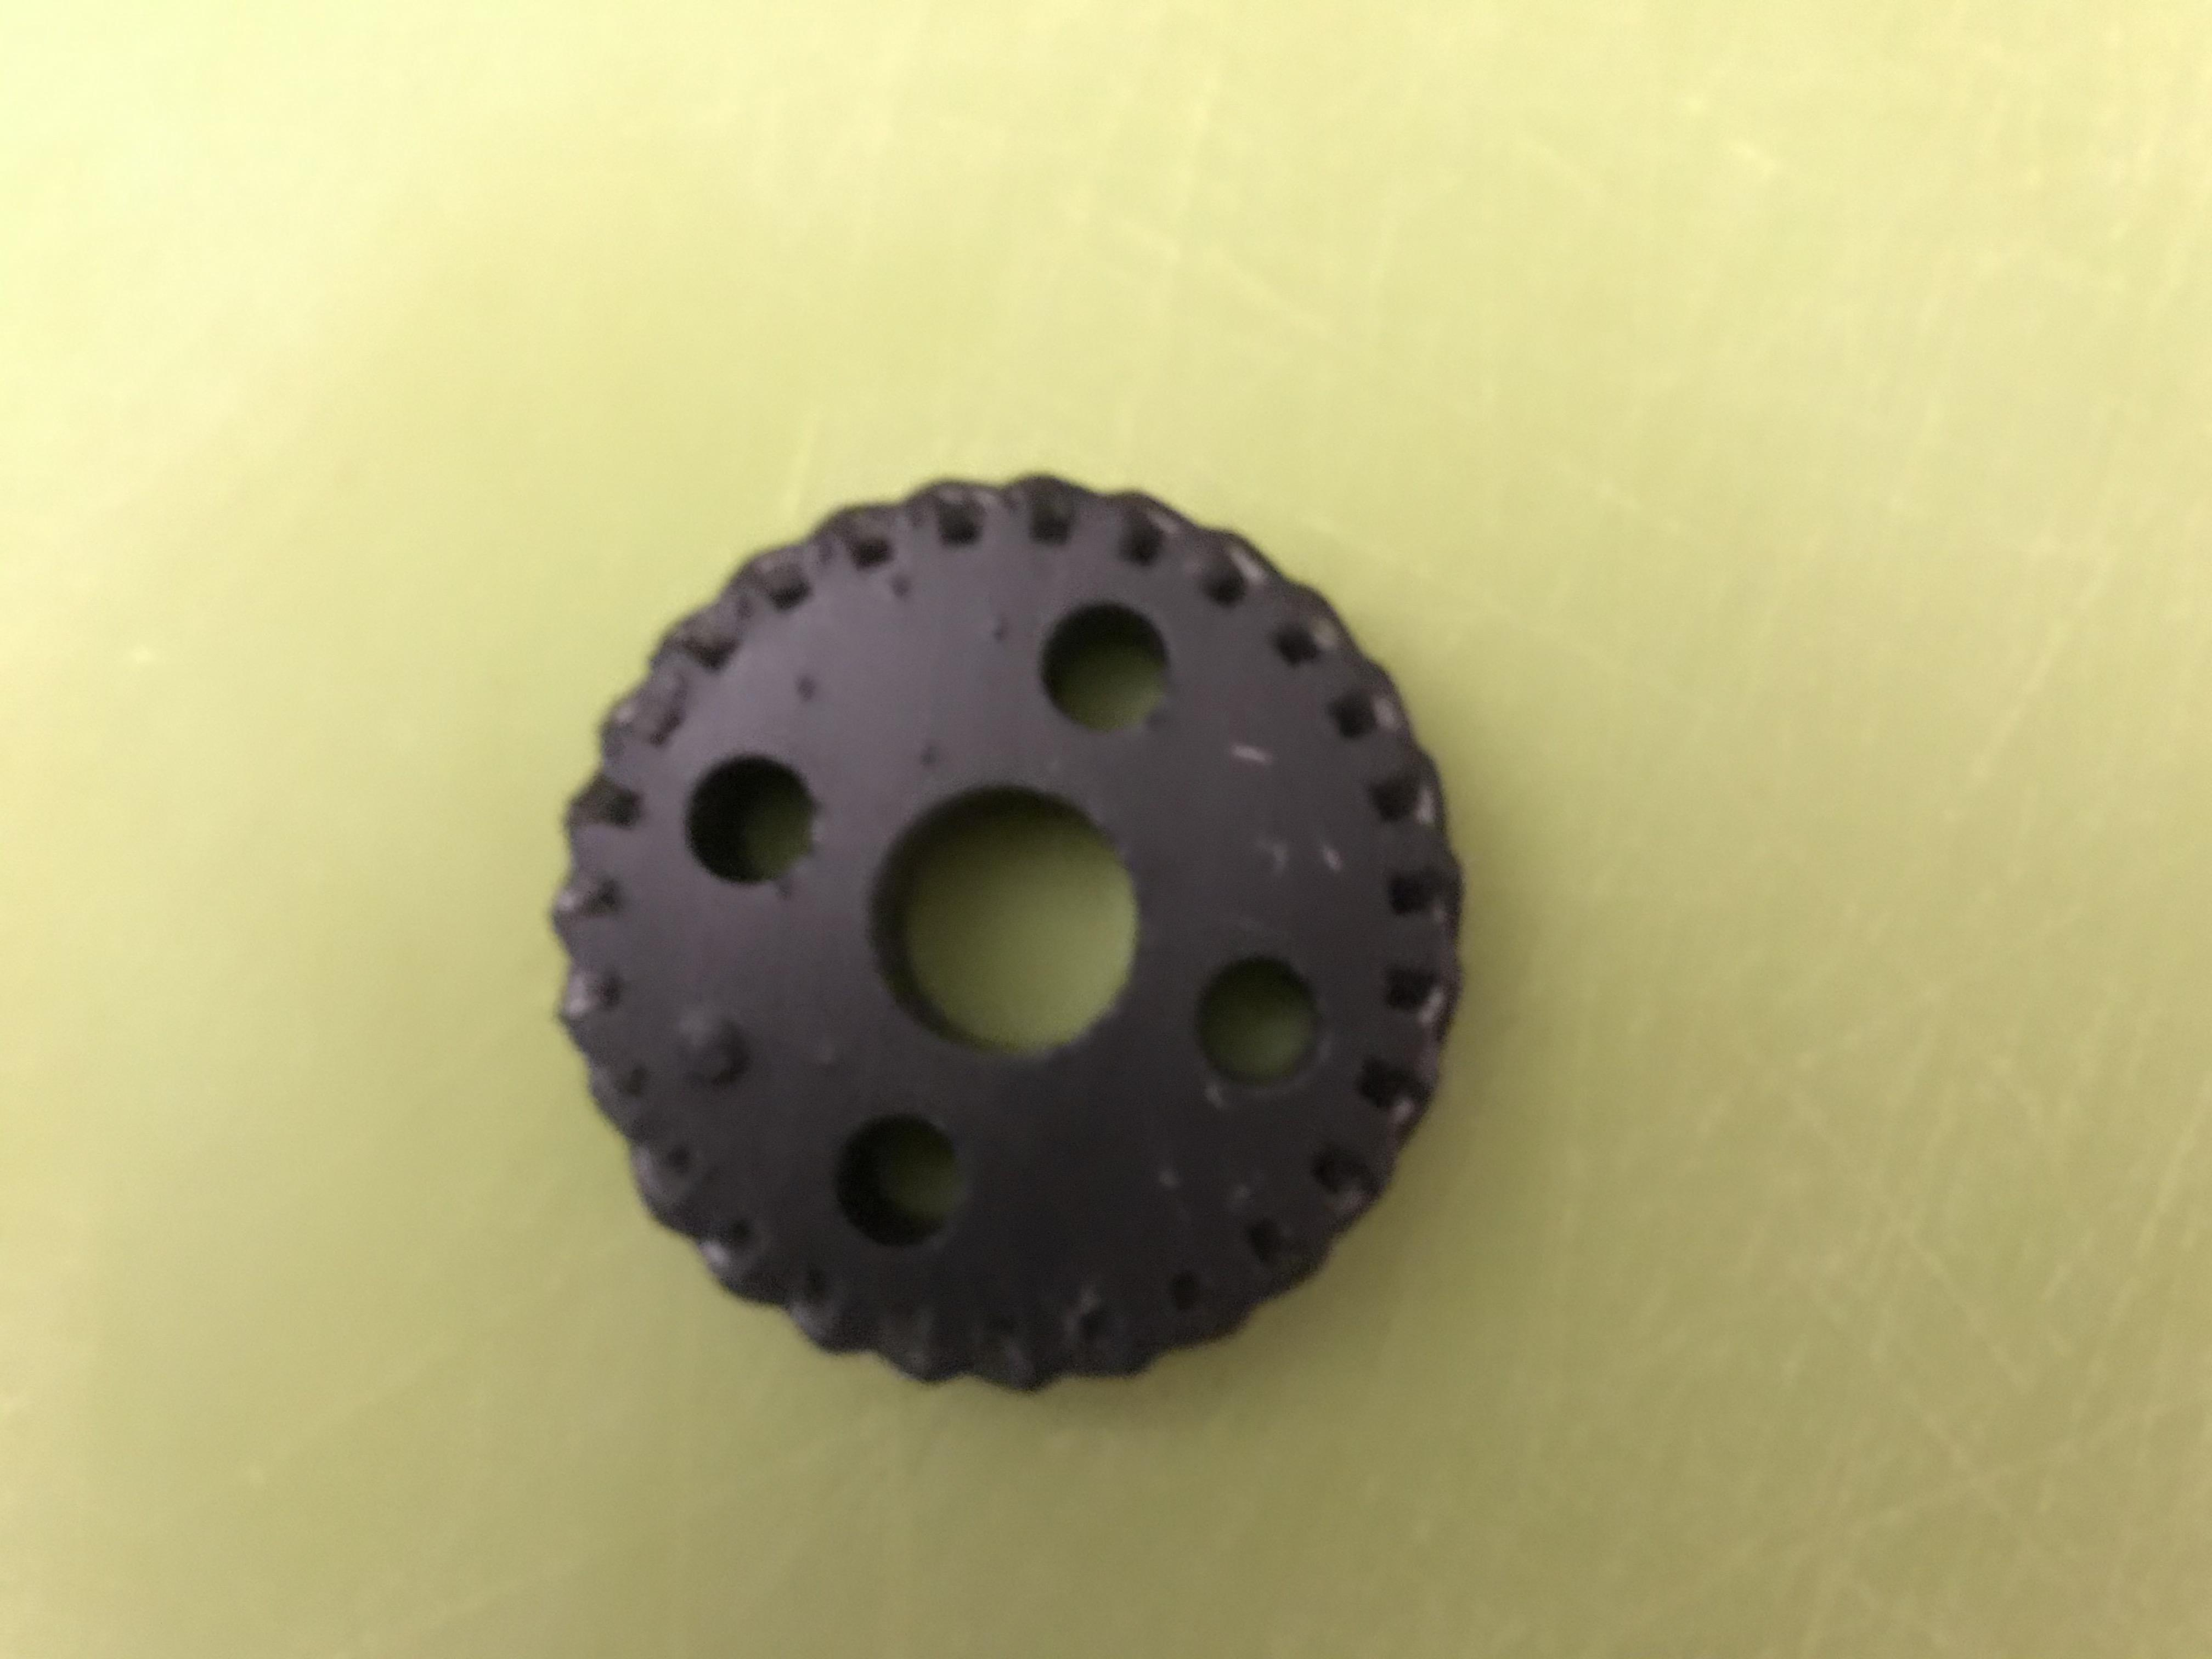Wheel: (543, 469, 1493, 1408)
